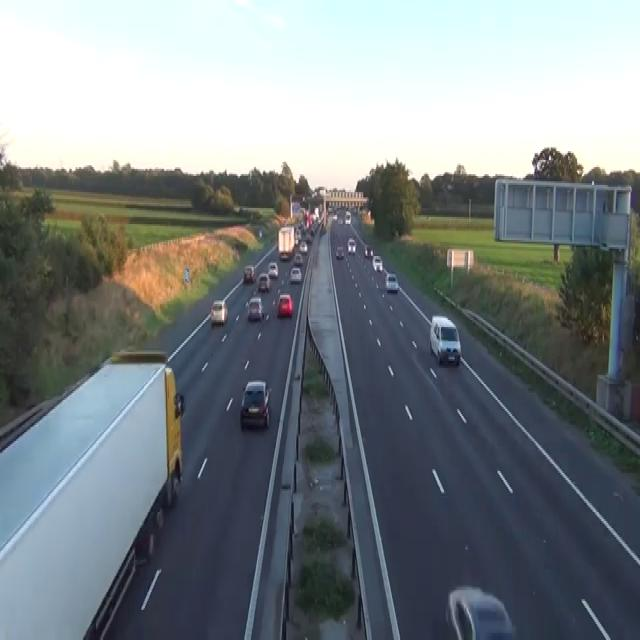Car: (445, 585, 514, 638), (133, 505, 164, 565), (429, 314, 461, 364), (239, 378, 270, 428), (210, 299, 228, 325), (247, 297, 264, 320), (277, 292, 293, 316), (385, 272, 399, 292), (257, 272, 271, 292), (243, 265, 255, 283), (371, 254, 383, 272), (289, 266, 301, 282), (267, 262, 278, 278), (347, 238, 356, 254), (363, 245, 373, 258), (293, 252, 303, 265), (335, 246, 344, 260), (344, 210, 351, 224), (299, 240, 307, 252), (279, 250, 288, 260), (293, 230, 299, 243), (320, 224, 326, 235), (328, 204, 335, 213), (352, 206, 358, 215), (337, 215, 343, 224), (305, 233, 311, 242), (309, 228, 315, 235), (332, 212, 337, 220), (258, 228, 262, 236)
Truck: (0, 348, 184, 638), (277, 226, 294, 260)
